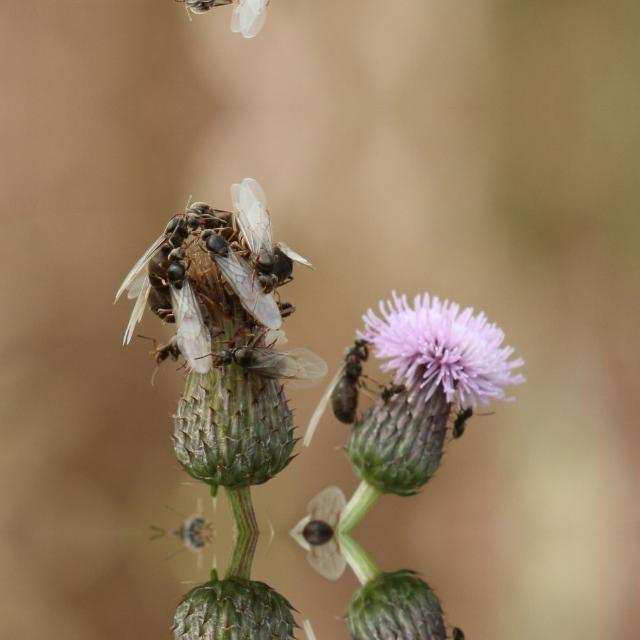Lasius: (196, 223, 286, 333), (208, 328, 330, 399), (308, 312, 379, 433), (165, 238, 223, 368), (230, 172, 282, 290), (132, 203, 180, 293), (138, 312, 196, 376), (230, 0, 282, 40), (450, 395, 486, 449), (450, 616, 486, 640)
